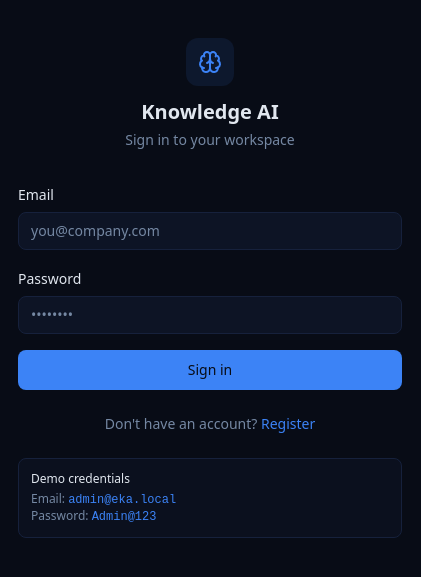
Test case: LoginPage › shows validation error for empty form
What coordinates should you click on to do the following:
click the button "Sign in"
I would click on:
 (210, 370)
Its box is [18, 350, 402, 390].
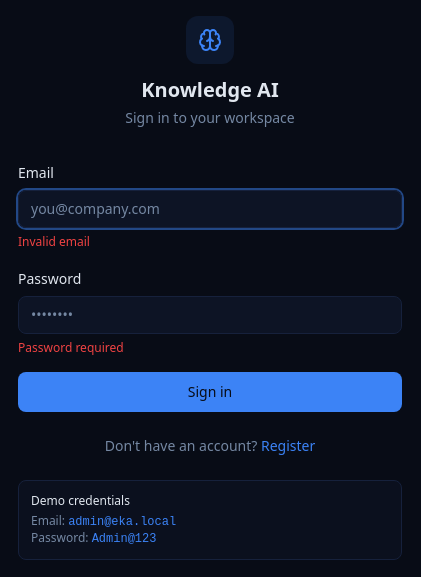
Result: the text "Invalid email" is shown at [18, 233, 90, 250]
